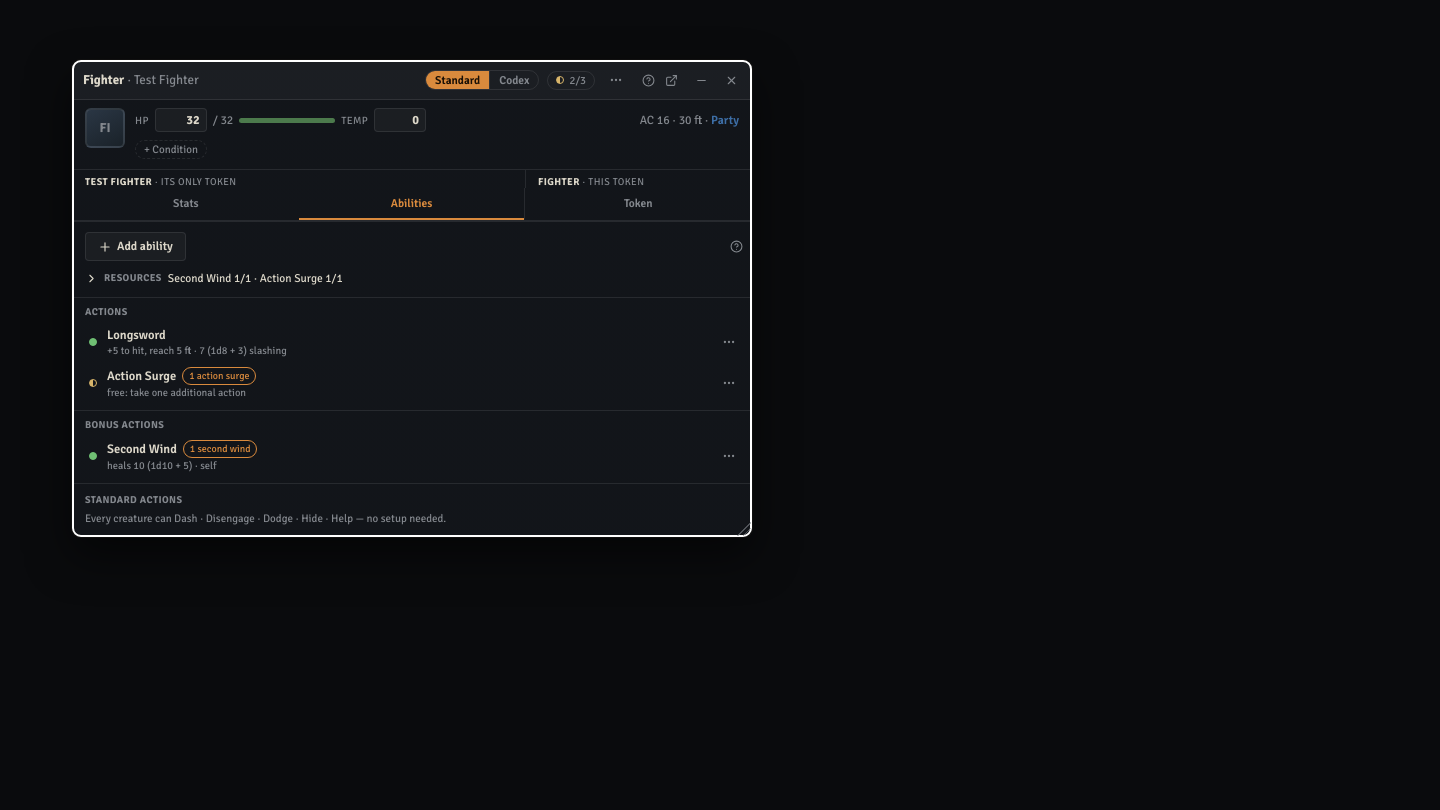
Test case: My library on the sheet › says why a broken ability can't be saved there
Click the tab "Abilities" at (412, 204), box [299, 188, 524, 220]
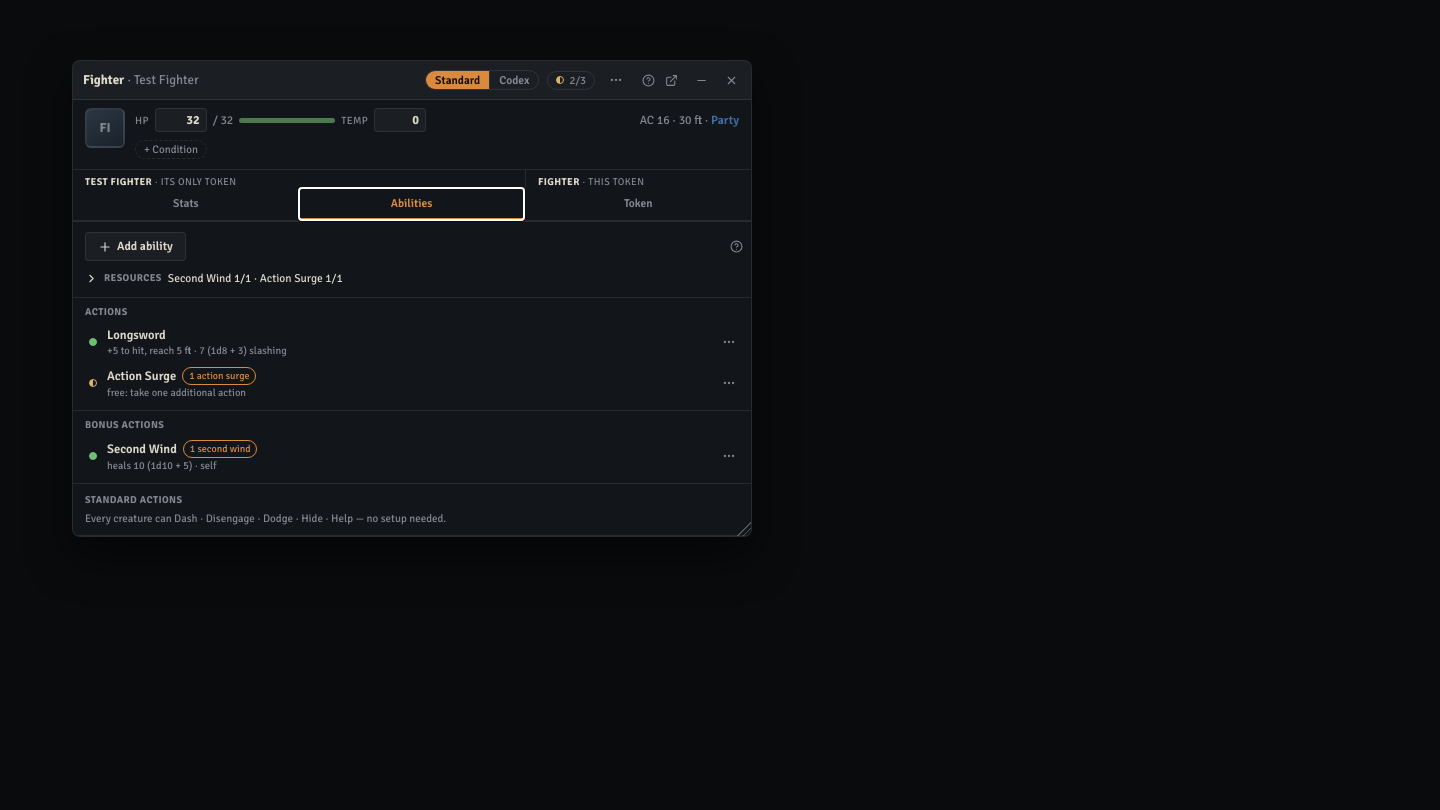
Click the button "Add ability" at (135, 246), box [85, 232, 186, 261]
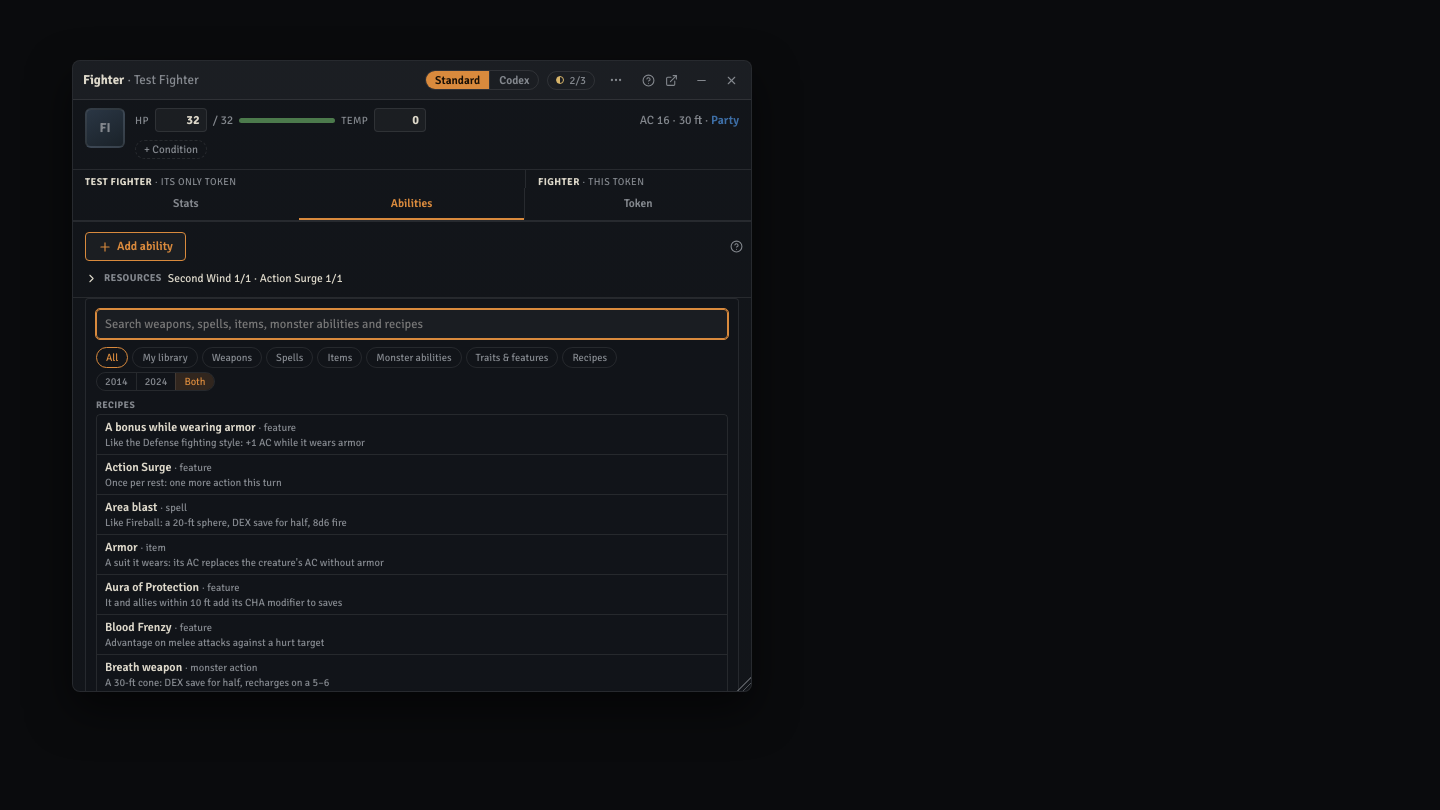
Type "swimming" into the search field named "Search abilities" at (412, 324), box [96, 309, 728, 339]
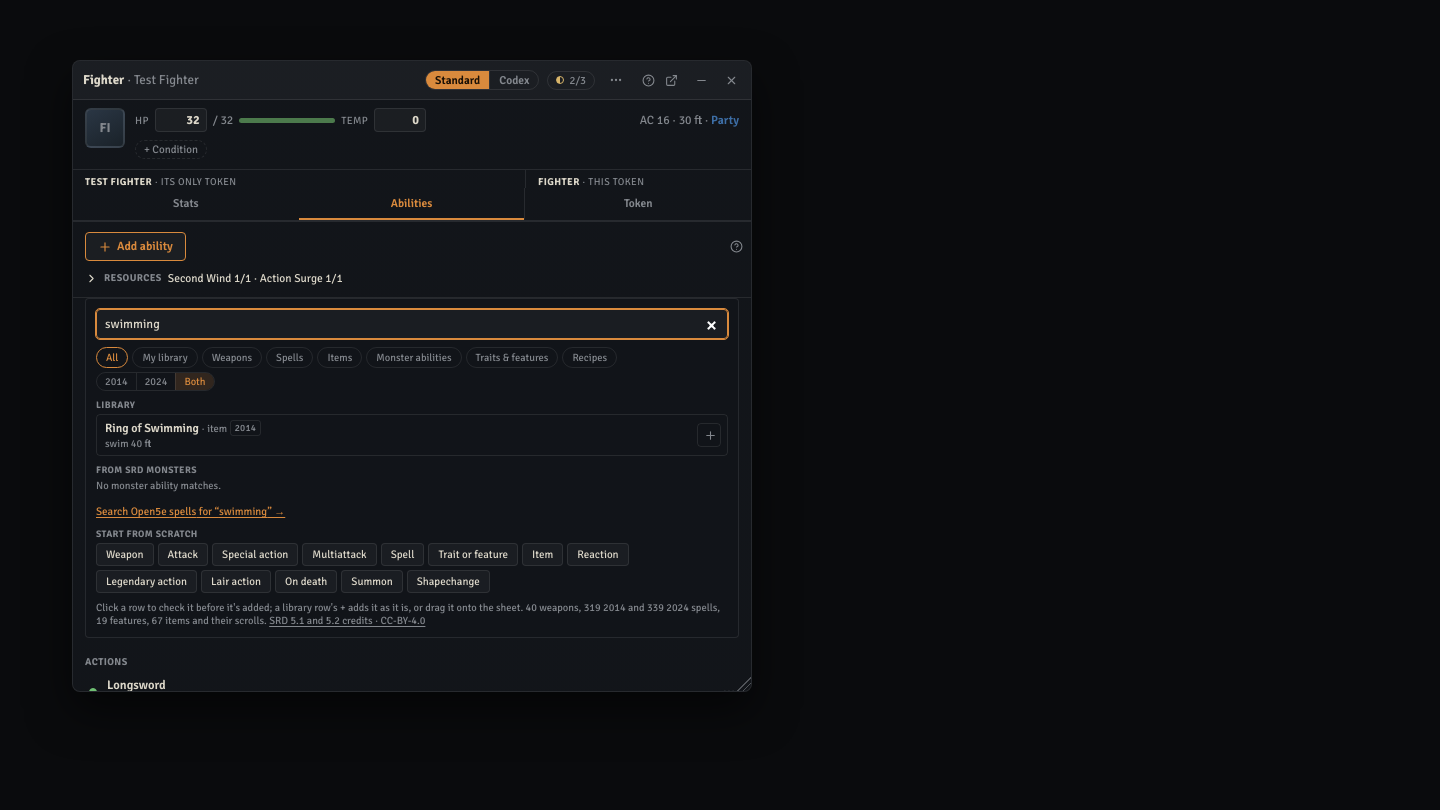
Click the button "Ring of Swimming · item 2014 swim 40 ft" at (152, 428), box [97, 415, 691, 455]
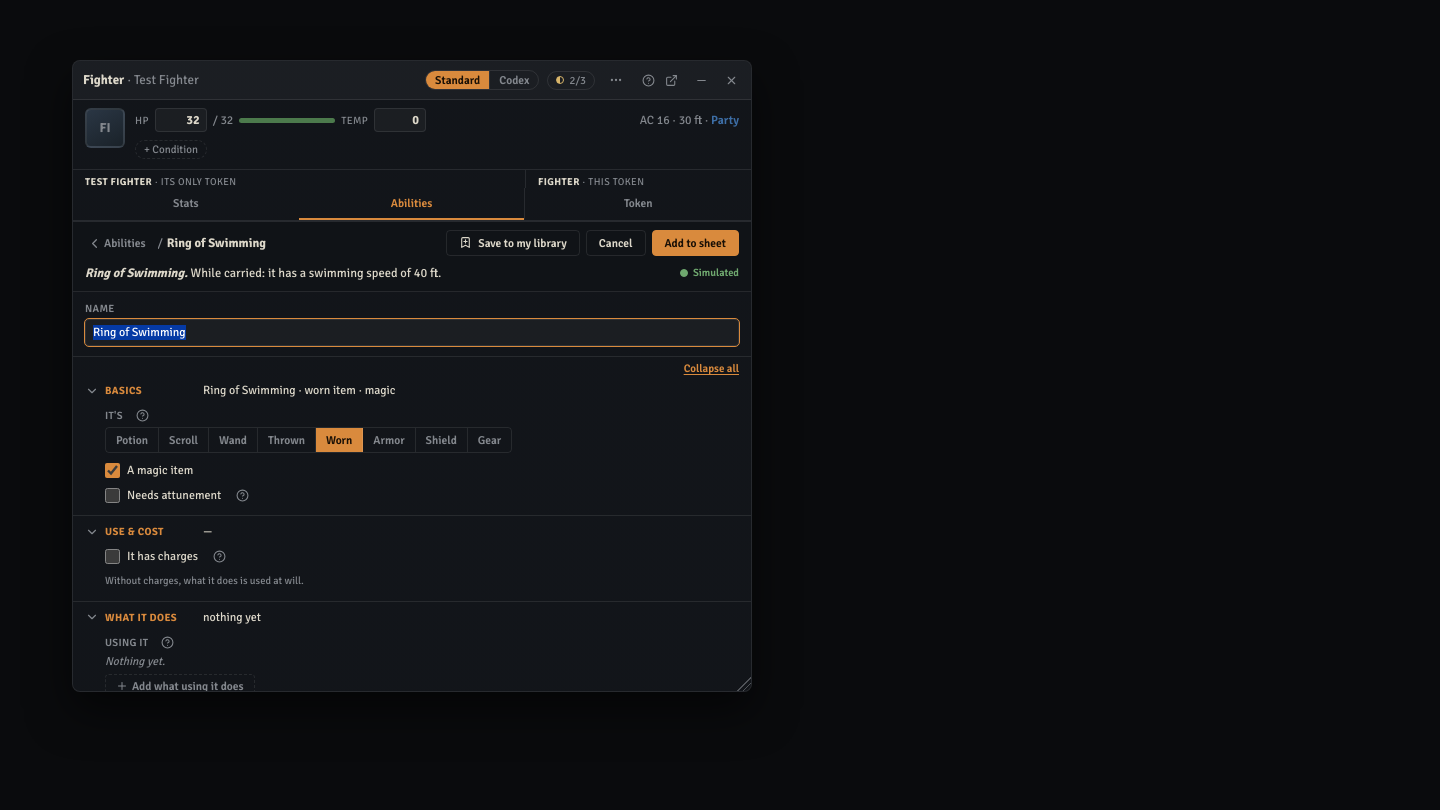
Clear the field labelled "Name" at (412, 333), box [85, 319, 739, 346]
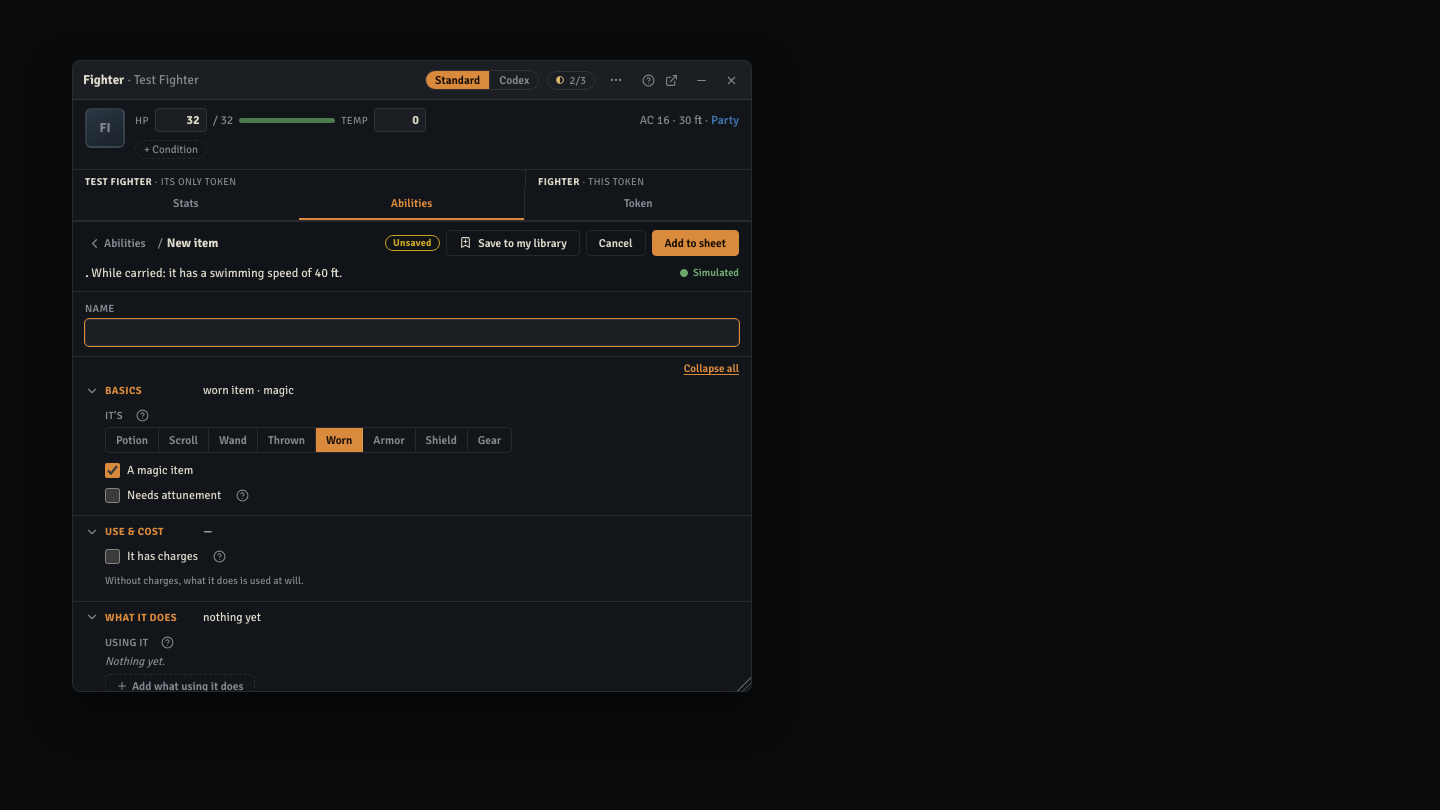
Click the button "Save to my library" at (513, 243), box [446, 230, 580, 256]
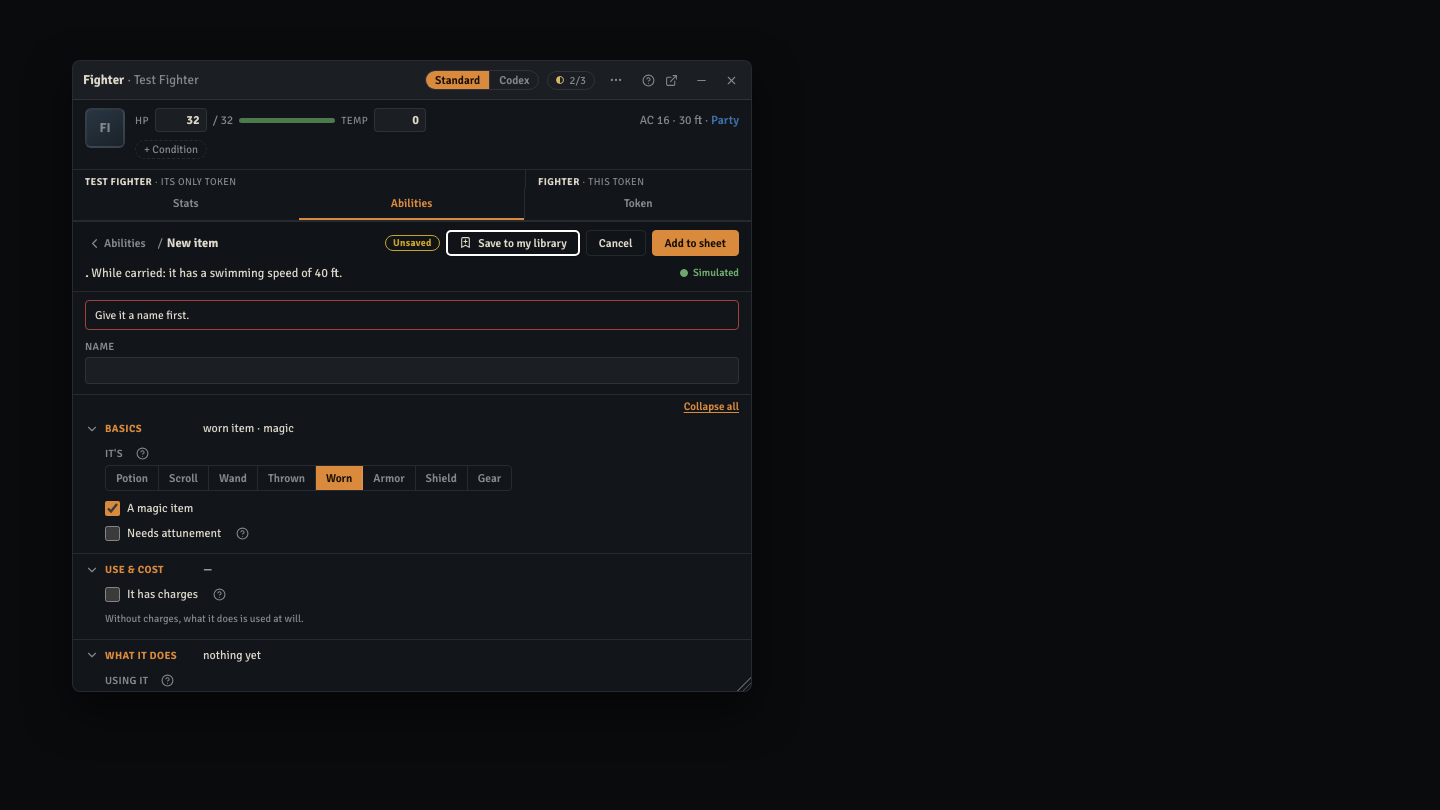
Now the message "Give it a name first." is shown, box [85, 300, 739, 330]
